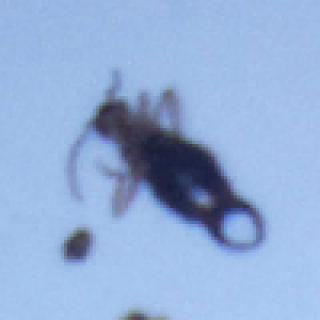earwig: (56, 66, 270, 260)
